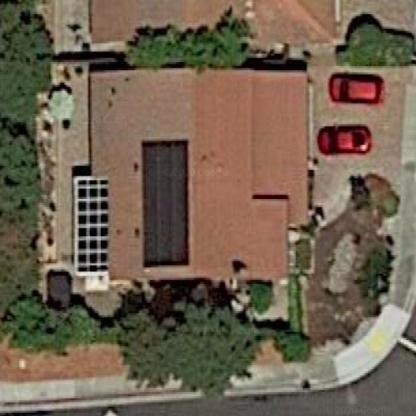car: (327, 68, 384, 114), (311, 122, 376, 162)
solar_panel: (136, 128, 200, 280)
